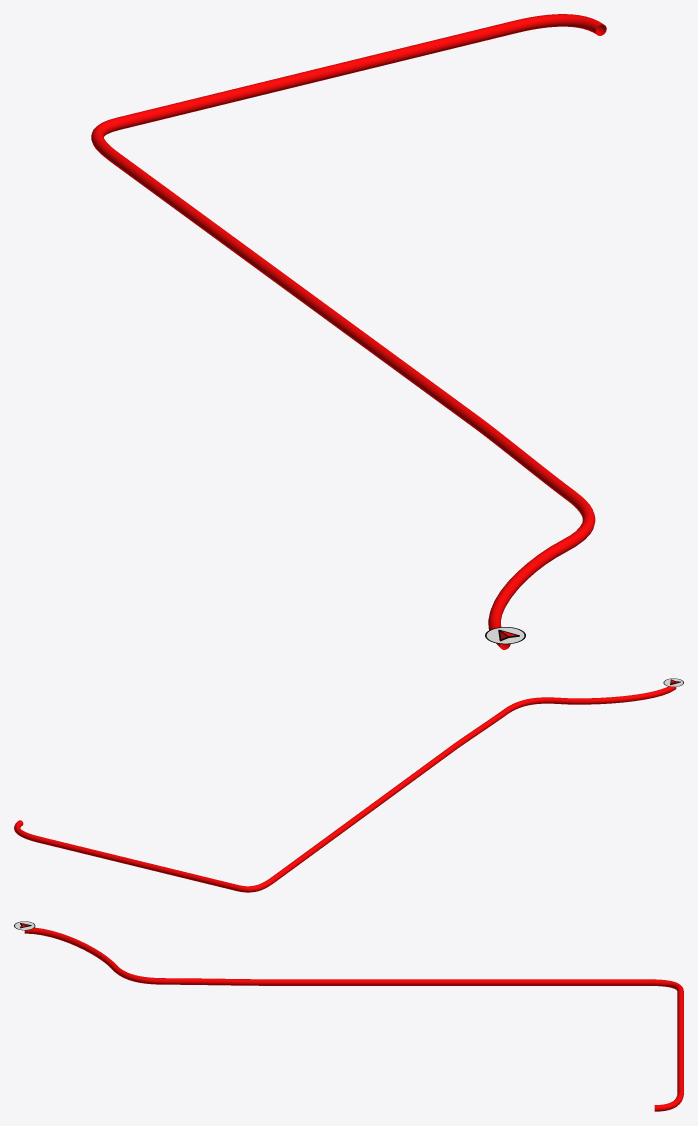
Rendered from route_01c78787-0aca-464e-ab4c-be0dc2481a3a_de_single.glb.
The picture shows the model from 3 angles, top to bottom: view 1: azimuth 30°, elevation 25°; view 2: azimuth 150°, elevation 25°; view 3: azimuth 270°, elevation 25°; orthographic projection. The views are drawn at different scales.
Parts seen in each view (by area): view 1: B5, Abteil 4; view 2: B5, Abteil 4; view 3: B5, Abteil 4.
Boxes of the visible parts, x1,y1,x2,y2 form: B5, Abteil 4: (91,14,606,649); B5, Abteil 4: (14,686,676,892); B5, Abteil 4: (24,927,683,1111).
Bounding box in the file's own units: 5.27 × 0.1062 × 8.11.
